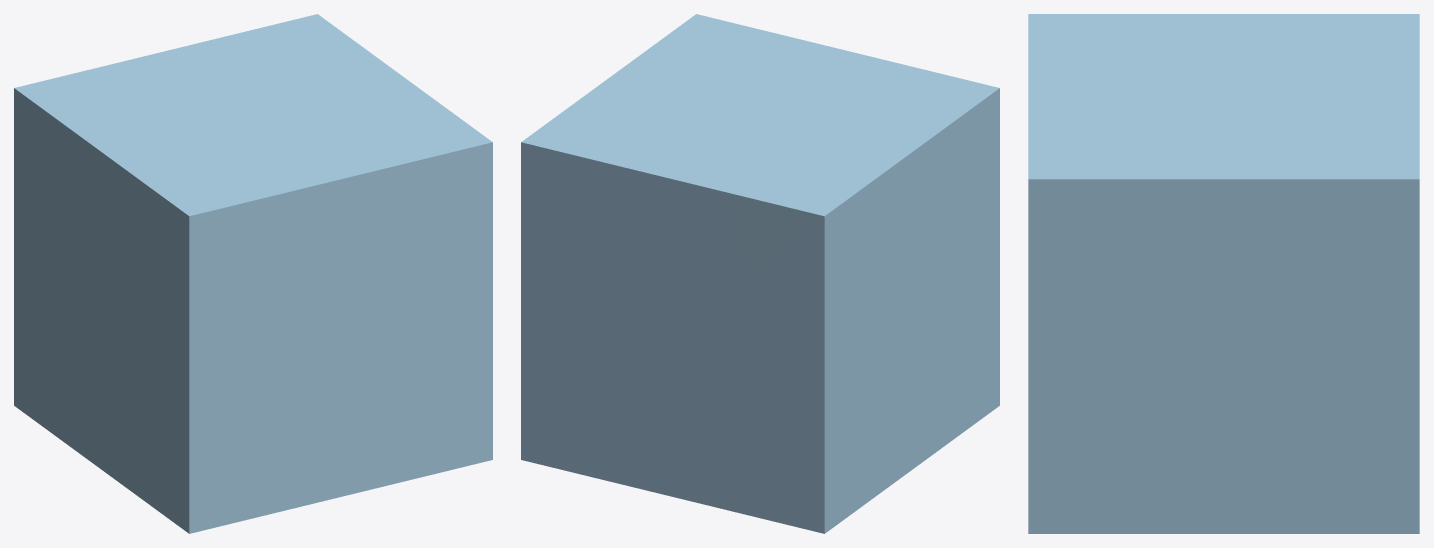
The model's file is Cube-Prefab2.fbx.
3 renders of one model, left to right at view 1: azimuth 30°, elevation 25°; view 2: azimuth 150°, elevation 25°; view 3: azimuth 270°, elevation 25°, orthographic. The views are drawn at different scales.
Parts seen in each view (by area): view 1: Cube_Prefab, Cube_Prefab_cell.008, Cube_Prefab_cell.017, Cube_Prefab_cell.003, Cube_Prefab_cell.040, Cube_Prefab_cell.047_cell.001, Cube_Prefab_cell.038, Cube_Prefab_cell.027, Cube_Prefab_cell.016, Cube_Prefab_cell.030, Cube_Prefab_cell.019_cell.001, Cube_Prefab_cell.046_cell (+2 smaller); view 2: Cube_Prefab, Cube_Prefab_cell.032, Cube_Prefab_cell.048, Cube_Prefab_cell, Cube_Prefab_cell.042, Cube_Prefab_cell.022, Cube_Prefab_cell.019_cell.001, Cube_Prefab_cell.038, Cube_Prefab_cell.040, Cube_Prefab_cell.009, Cube_Prefab_cell.008, Cube_Prefab_cell.049_cell (+4 smaller); view 3: Cube_Prefab, Cube_Prefab_cell.003, Cube_Prefab_cell.033, Cube_Prefab_cell.040, Cube_Prefab_cell.025, Cube_Prefab_cell.024, Cube_Prefab_cell.032, Cube_Prefab_cell.042, Cube_Prefab_cell.008, Cube_Prefab_cell.038, Cube_Prefab_cell.019_cell.001, Cube_Prefab_cell.013 (+2 smaller).
Boxes of the visible parts, x1,y1,x2,y2 form: Cube_Prefab: (14, 14, 492, 533); Cube_Prefab_cell.008: (15, 85, 211, 220); Cube_Prefab_cell.017: (255, 364, 382, 469); Cube_Prefab_cell.003: (381, 398, 492, 470); Cube_Prefab_cell.040: (145, 135, 353, 273); Cube_Prefab_cell.047_cell.001: (43, 382, 113, 477); Cube_Prefab_cell.038: (329, 91, 422, 161); Cube_Prefab_cell.027: (14, 363, 81, 425); Cube_Prefab_cell.016: (50, 185, 161, 300); Cube_Prefab_cell.030: (176, 470, 415, 532); Cube_Prefab_cell.019_cell.001: (14, 73, 142, 160); Cube_Prefab_cell.046_cell: (152, 367, 261, 441); Cube_Prefab: (521, 14, 999, 533); Cube_Prefab_cell.032: (521, 82, 721, 230); Cube_Prefab_cell.048: (521, 196, 677, 281); Cube_Prefab_cell: (524, 260, 683, 349); Cube_Prefab_cell.042: (521, 350, 671, 426); Cube_Prefab_cell.022: (635, 119, 758, 273); Cube_Prefab_cell.019_cell.001: (727, 172, 837, 268); Cube_Prefab_cell.038: (621, 41, 803, 87); Cube_Prefab_cell.040: (784, 55, 999, 182); Cube_Prefab_cell.009: (671, 361, 824, 467); Cube_Prefab_cell.008: (740, 140, 886, 296); Cube_Prefab_cell.049_cell: (521, 260, 640, 347); Cube_Prefab: (1028, 14, 1419, 533); Cube_Prefab_cell.003: (1028, 284, 1134, 522); Cube_Prefab_cell.033: (1062, 456, 1327, 533); Cube_Prefab_cell.040: (1028, 14, 1100, 111); Cube_Prefab_cell.025: (1028, 130, 1211, 274); Cube_Prefab_cell.024: (1254, 291, 1410, 430); Cube_Prefab_cell.032: (1228, 180, 1419, 242); Cube_Prefab_cell.042: (1331, 424, 1419, 506); Cube_Prefab_cell.008: (1292, 14, 1373, 90); Cube_Prefab_cell.038: (1045, 112, 1235, 194); Cube_Prefab_cell.019_cell.001: (1355, 14, 1411, 70); Cube_Prefab_cell.013: (1298, 457, 1419, 533).
Size of the model in its own units: 100 by 100 by 100.
